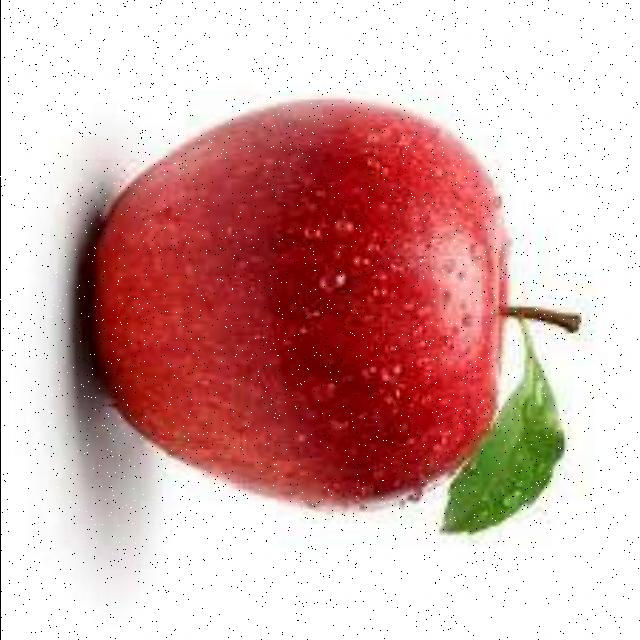HEALTHY: (92, 84, 556, 530)
